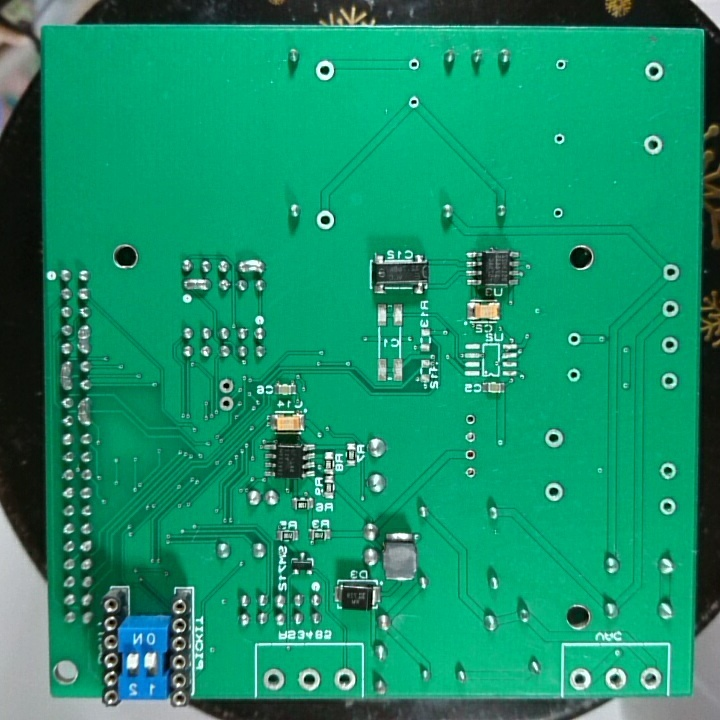F: (602, 664, 631, 692), (332, 665, 358, 695), (297, 666, 322, 694), (567, 667, 594, 692), (542, 479, 566, 506), (639, 666, 664, 691), (262, 666, 285, 692), (314, 207, 337, 232), (314, 58, 337, 83), (642, 133, 665, 158), (659, 334, 682, 358), (542, 426, 565, 450), (642, 60, 665, 83), (659, 370, 682, 393), (659, 299, 683, 320), (660, 262, 682, 284), (658, 460, 679, 483), (657, 495, 678, 518), (217, 395, 237, 414), (217, 376, 237, 395), (565, 329, 583, 350), (406, 55, 423, 76), (565, 366, 581, 386), (551, 129, 568, 147), (463, 428, 480, 446), (553, 56, 569, 75), (551, 203, 567, 222), (405, 93, 422, 110), (462, 446, 478, 463), (462, 466, 479, 481), (463, 412, 479, 427)
P: (234, 256, 266, 275), (181, 275, 212, 294), (75, 324, 93, 355), (58, 360, 75, 392), (76, 397, 92, 427)
